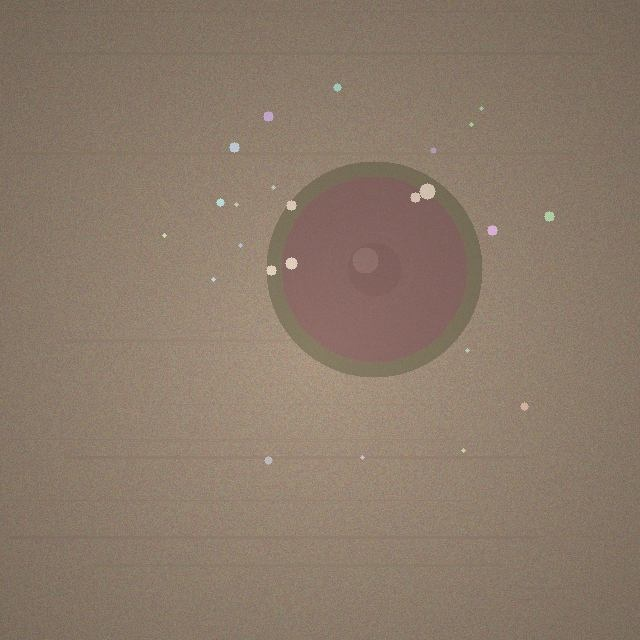overburn: (266, 161, 482, 377)
